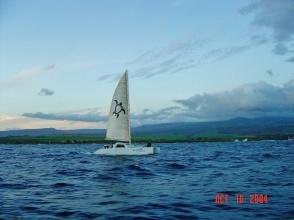fanchuan: (93, 68, 164, 156)
